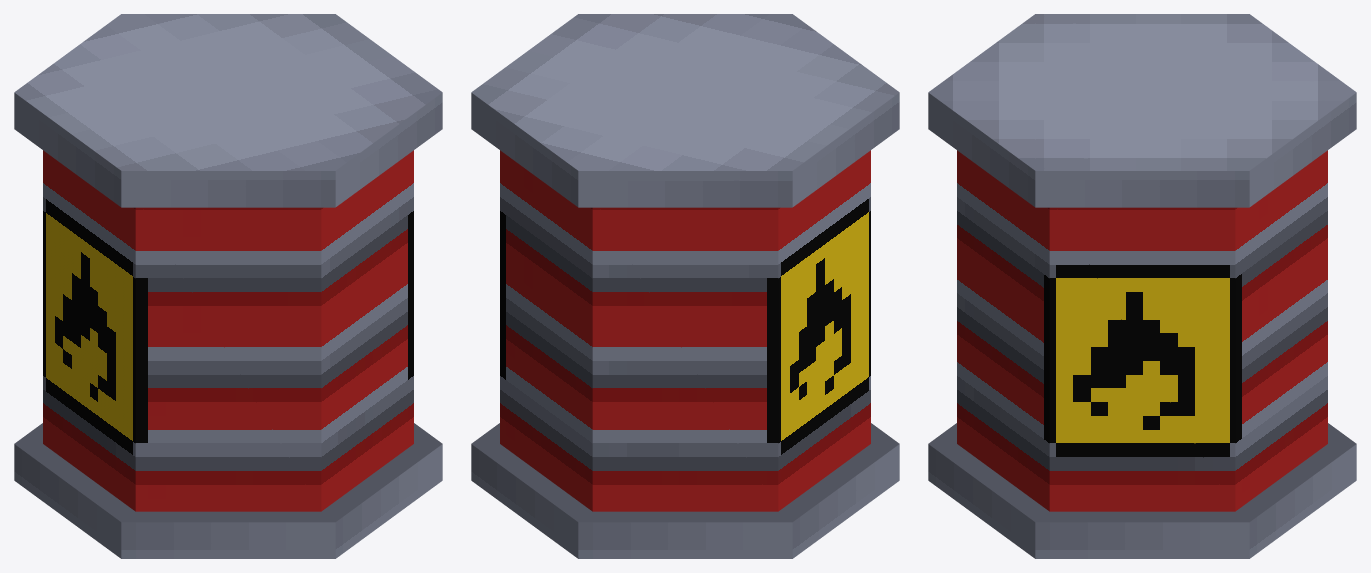
Rendered from explosive.glb.
3 renders of one model, left to right at view 1: azimuth 30°, elevation 25°; view 2: azimuth 150°, elevation 25°; view 3: azimuth 270°, elevation 25°, orthographic.
Parts seen in each view (by area): view 1: Cylinder; view 2: Cylinder; view 3: Cylinder.
Part boxes in pixels (box(x1,y1,x2,y2)): Cylinder: box(14, 14, 442, 558); Cylinder: box(471, 14, 899, 558); Cylinder: box(928, 14, 1356, 558).
Size of the model in its own units: 0.8666 by 1 by 1.
Materials: 1 (1 with a texture image).
